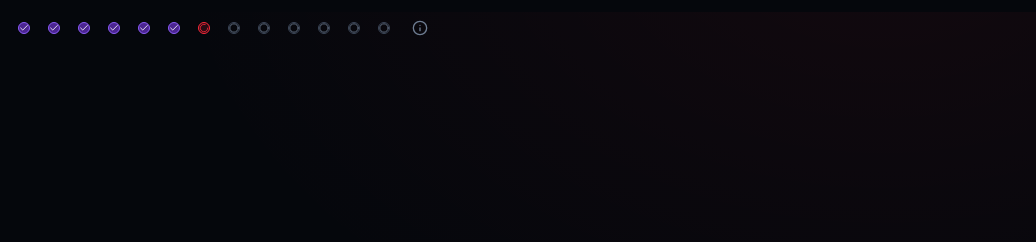
Scenario: PhaseRail › toggles a legend popover listing all five state labels
Click the button named "Show phase state legend": (420, 28) [404,12,436,44]
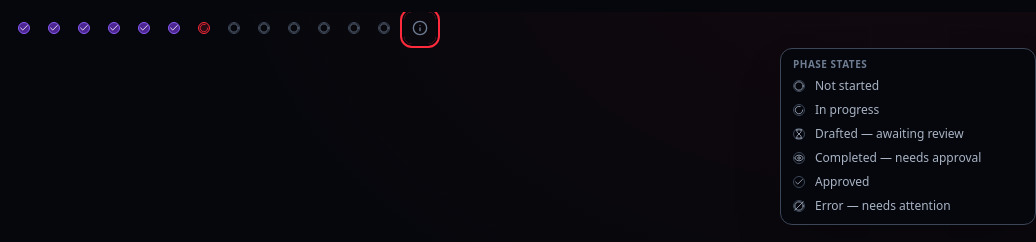
expect the list item "Not started" is shown: met, box [793,77,879,94]
expect the list item "In progress" is shown: met, box [793,101,879,118]
expect the list item "Drafted — awaiting review" is shown: met, box [793,125,964,142]
